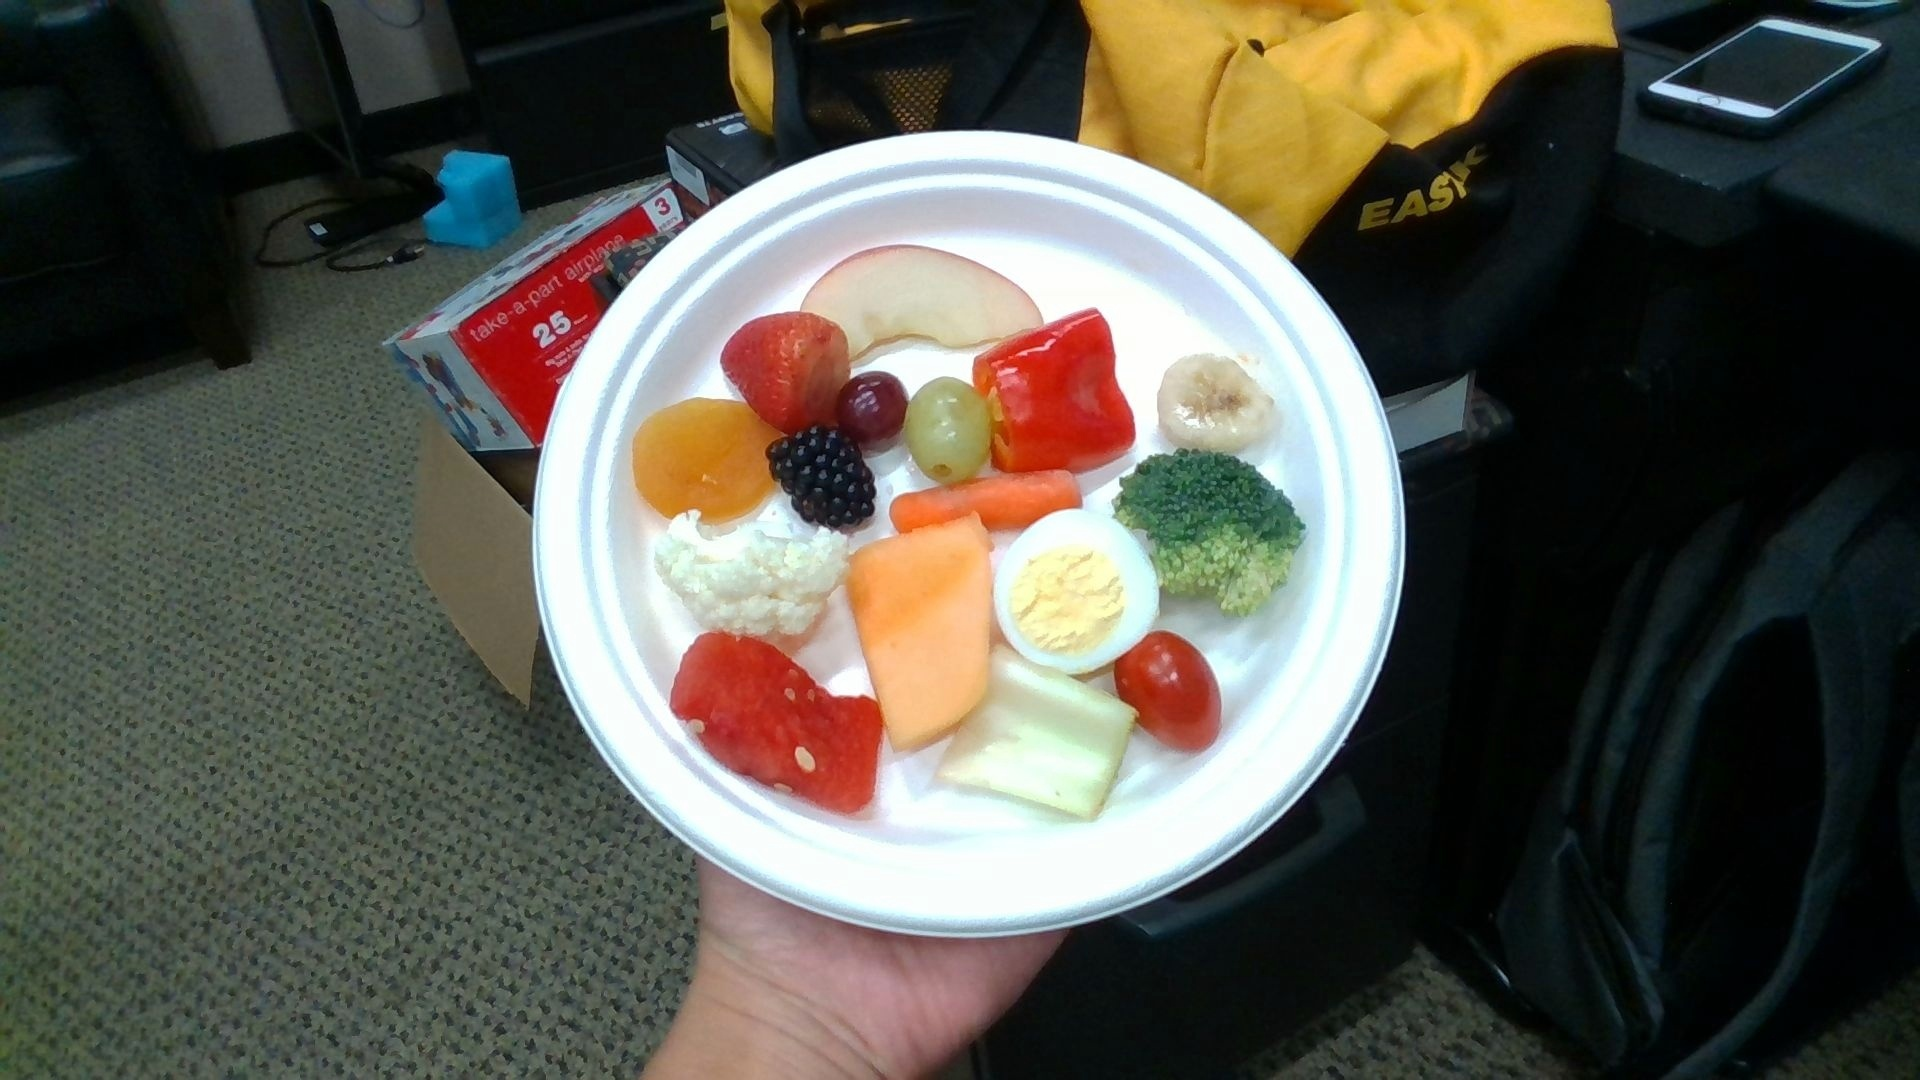apple: (804, 247, 1042, 349)
apricot: (640, 400, 781, 524)
banana: (1160, 353, 1275, 451)
bell_pepper: (975, 310, 1135, 468)
blackberry: (769, 425, 874, 531)
broccoli: (1116, 451, 1304, 613)
cantalope: (851, 513, 992, 748)
carrot: (891, 471, 1080, 531)
cauliflower: (651, 512, 845, 646)
celery: (939, 669, 1139, 815)
cherry_tomato: (1117, 633, 1220, 750)
egg: (994, 510, 1159, 673)
grape_green: (905, 378, 992, 483)
grape_purple: (839, 371, 905, 438)
melon: (674, 633, 884, 806)
strawberry: (720, 313, 847, 431)
